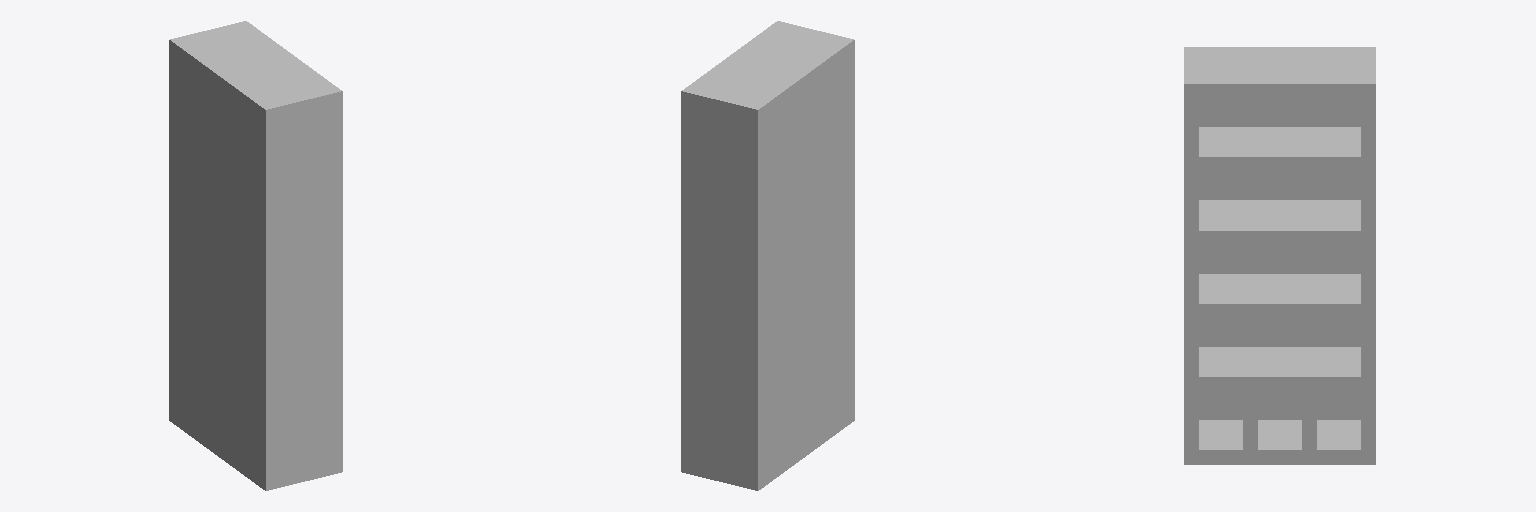
File: bookcase.obj
The picture shows the model from 3 angles: view 1: azimuth 30°, elevation 25°; view 2: azimuth 150°, elevation 25°; view 3: azimuth 270°, elevation 25°; orthographic projection.
Visible parts, largest first — view 1: Cube; view 2: Cube; view 3: Cube.
Boxes of the visible parts, <box> form: Cube: <box>169,21,342,490</box>; Cube: <box>681,21,854,490</box>; Cube: <box>1184,47,1375,464</box>.
Bounding box in the file's own units: 1.1 × 5.21 × 2.38.